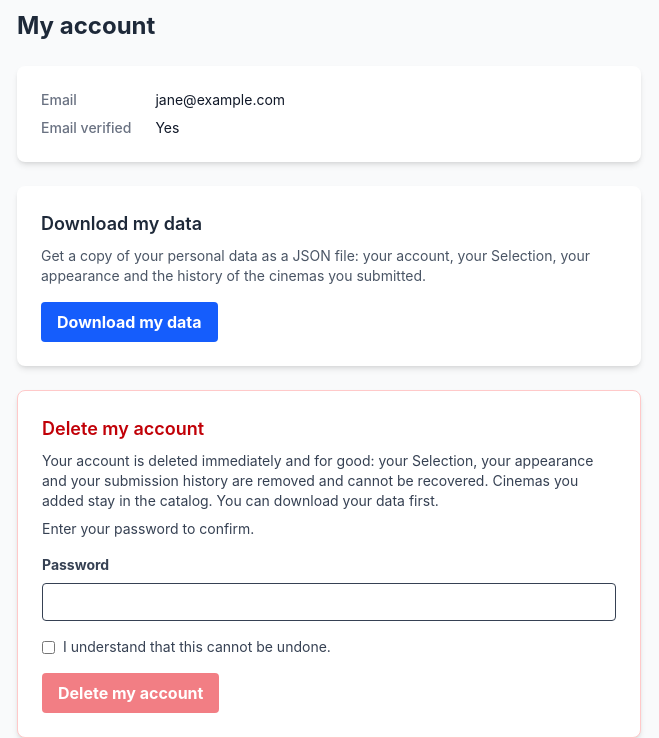
Test: AccountPage › keeps delete disabled until the password is entered and the warning acknowledged
expect the button with test id "delete-account-submit" is disabled: met, box 42,673 -> 219,713
Type "Str0ng!Pass" into the password field labelled "Password". click: (329, 602)
box: 42,583 -> 616,621
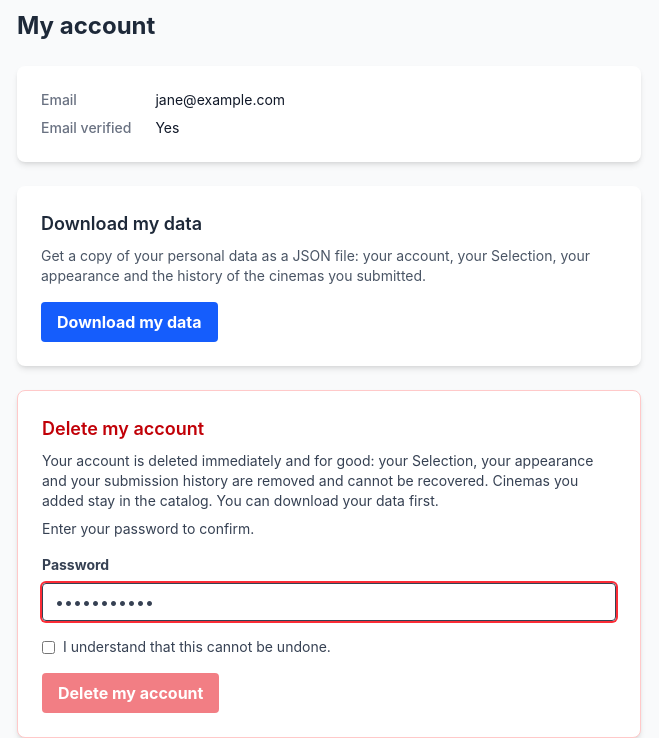
expect the button with test id "delete-account-submit" is disabled: met, box 42,673 -> 219,713
Click the checkbox with test id "delete-account-confirm". click: (48, 648)
box: 42,641 -> 55,654
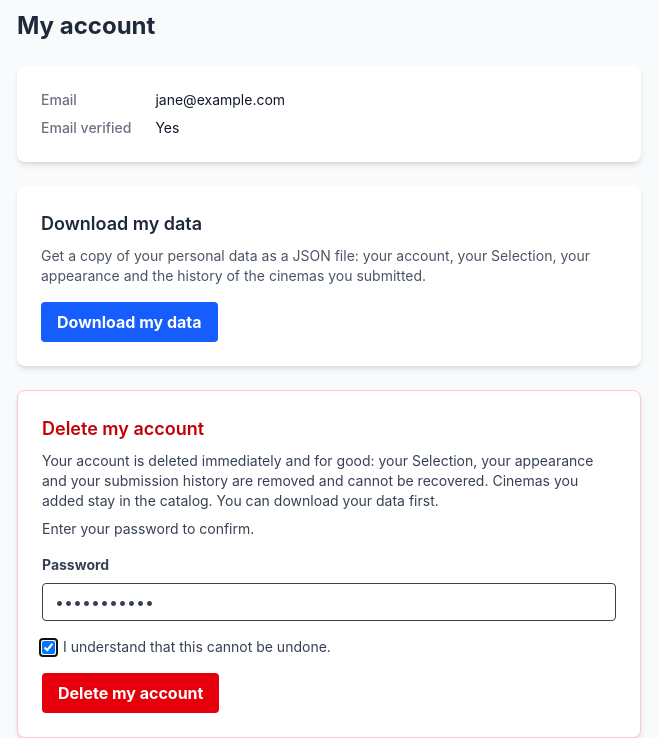
expect the button with test id "delete-account-submit" is enabled: met, box 42,673 -> 219,713
